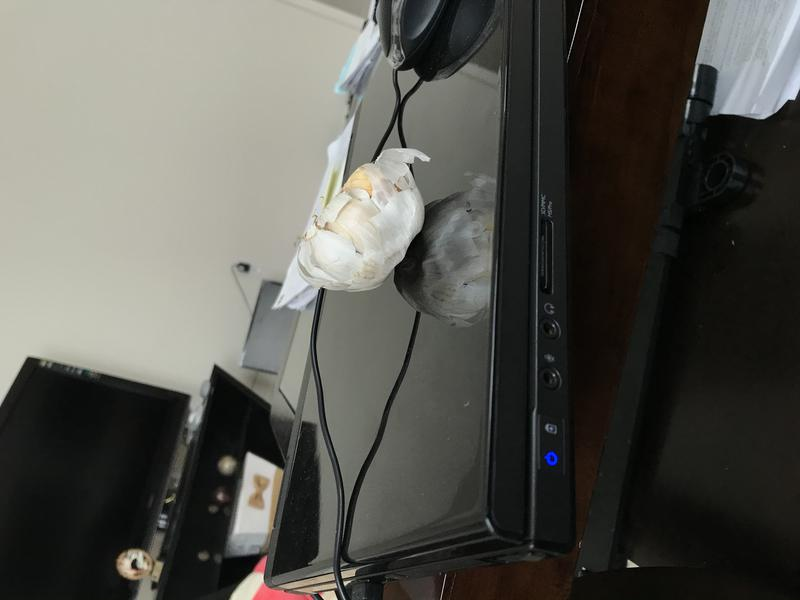garlic: (275, 141, 426, 298), (399, 181, 511, 334)
